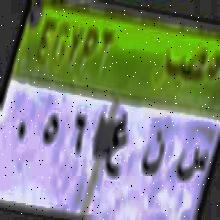0: (17, 115, 28, 144)
5: (42, 108, 61, 156)
6: (71, 103, 88, 160)
ghayn: (105, 110, 130, 189)
noon: (138, 123, 166, 182)
seen: (174, 126, 208, 192)
